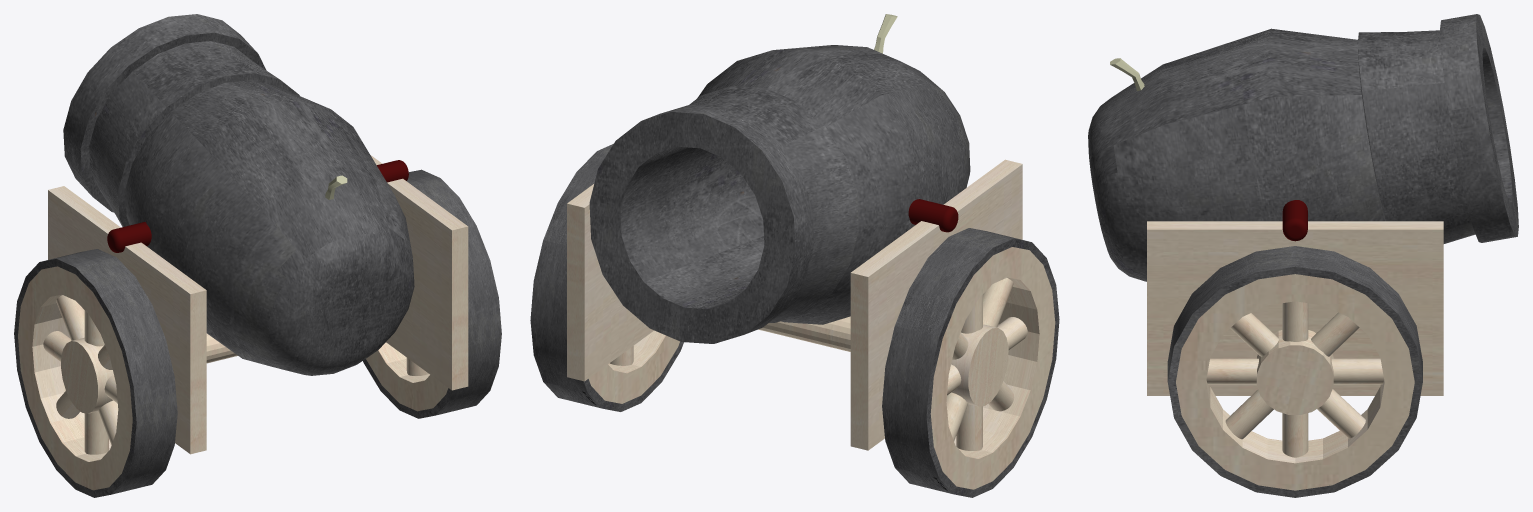
File: KR_Model_Cannon_v05_Vang.fbx
3 renders of one model, left to right at view 1: azimuth 30°, elevation 25°; view 2: azimuth 150°, elevation 25°; view 3: azimuth 270°, elevation 25°, orthographic. The views are drawn at different scales.
Parts seen in each view (by area): view 1: cannon, LeftW, plank1, plank, RightW, pCylinder1, pCylinder4, pCylinder2, metalholder1, pCylinder3, pCylinder5; view 2: cannon, LeftW, plank1, RightW, plank, pCylinder1 (×2), pCylinder5, pCylinder2, metalholder1, pCylinder3, pCylinder4; view 3: cannon, RightW, plank, pCylinder1, pCylinder3, pCylinder4, pCylinder5, pCylinder2, metalholder.
Part boxes in pixels (x1,y1,x2,y2): cannon: (63,14,414,375); LeftW: (14,249,177,497); plank1: (48,186,206,454); plank: (370,155,468,390); RightW: (363,169,501,418); pCylinder1: (61,337,113,413); pCylinder4: (56,295,118,444); pCylinder2: (84,310,108,454); metalholder1: (107,222,151,252); pCylinder3: (43,331,117,403); pCylinder5: (56,345,112,418); cannon: (589,45,970,343); LeftW: (882,228,1059,497); plank1: (850,159,1022,450); RightW: (530,144,683,411); plank: (567,184,653,381); pCylinder1 (×2): (758,316,1008,406); pCylinder5: (946,278,1013,440); pCylinder2: (956,294,982,450); metalholder1: (908,199,958,232); pCylinder3: (947,317,1027,395); pCylinder4: (952,332,1014,411); cannon: (1088,14,1518,281); RightW: (1167,246,1422,497); plank: (1147,221,1443,395); pCylinder1: (1256,330,1333,414); pCylinder3: (1206,358,1383,384); pCylinder4: (1230,313,1365,438); pCylinder5: (1225,312,1359,439); pCylinder2: (1282,301,1308,457); metalholder: (1282,200,1307,241).
Size of the model in its own units: 2.85 by 2.72 by 2.8.
Materials: 4 (2 with a texture image).
